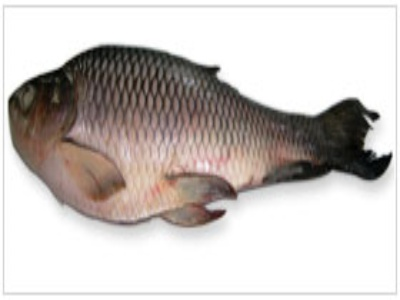rohu: (5, 41, 400, 236)
